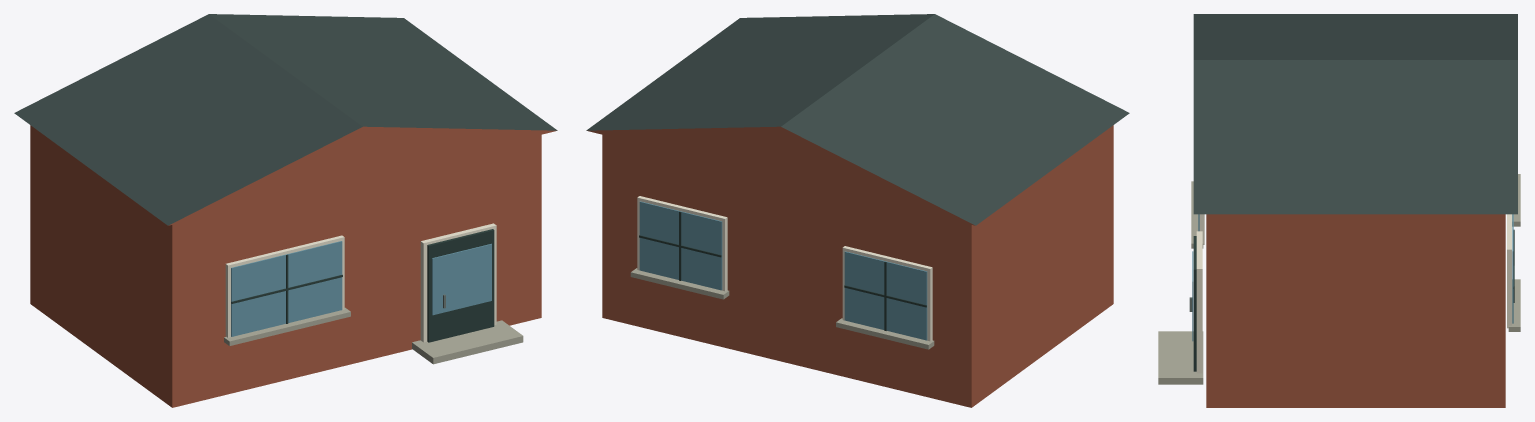
The model's file is BrickAnnex.obj.
3 views of the same model, side by side, from view 1: azimuth 30°, elevation 25°; view 2: azimuth 150°, elevation 25°; view 3: azimuth 270°, elevation 25° (orthographic). The views are drawn at different scales.
Parts seen in each view (by area): view 1: BrickAnnex; view 2: BrickAnnex; view 3: BrickAnnex.
Part boxes in pixels (<box>): BrickAnnex: <box>14,14,557,407</box>; BrickAnnex: <box>586,14,1129,407</box>; BrickAnnex: <box>1158,14,1520,407</box>.
Bounding box in the file's own units: 9.5 × 5.61 × 7.26.
1 material, 1 textured.
